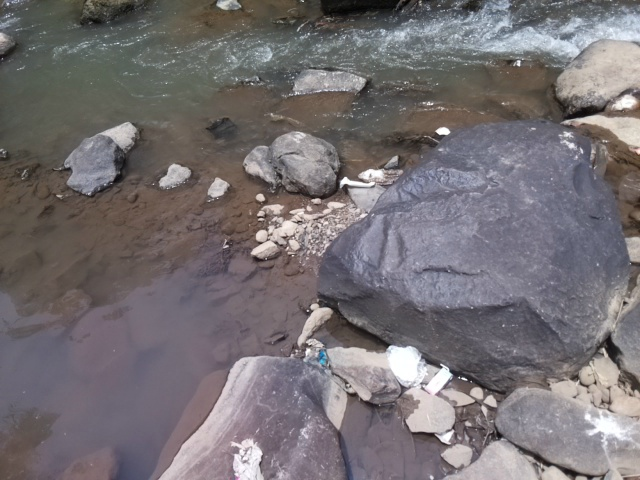Sampah_Plastik: (383, 341, 427, 389)
